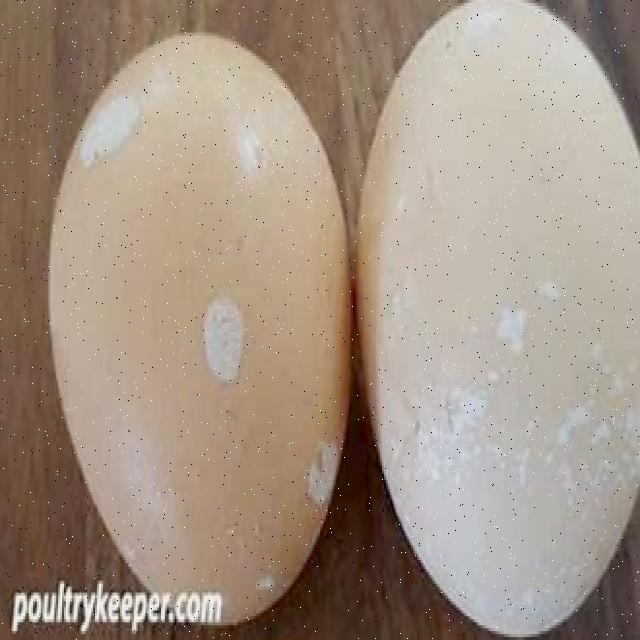Calcium Deposit Egg: (43, 20, 356, 622), (351, 0, 640, 640)
